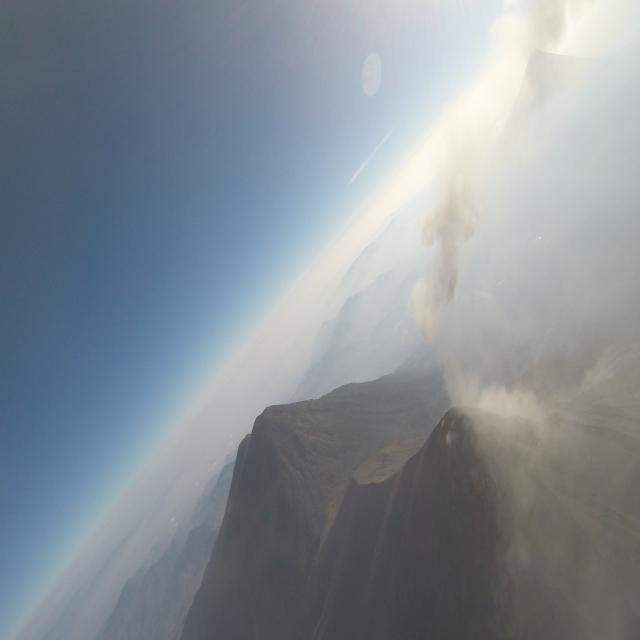Plume: (412, 176, 479, 339)
Summit: (438, 402, 488, 443)
